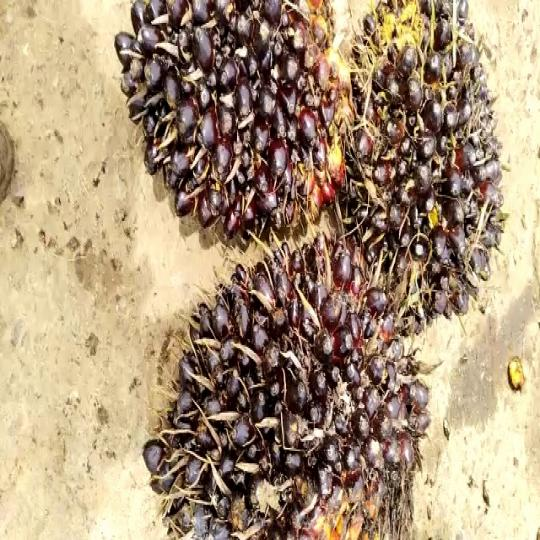mentah: (141, 228, 444, 532), (106, 0, 336, 249), (332, 0, 502, 323)
